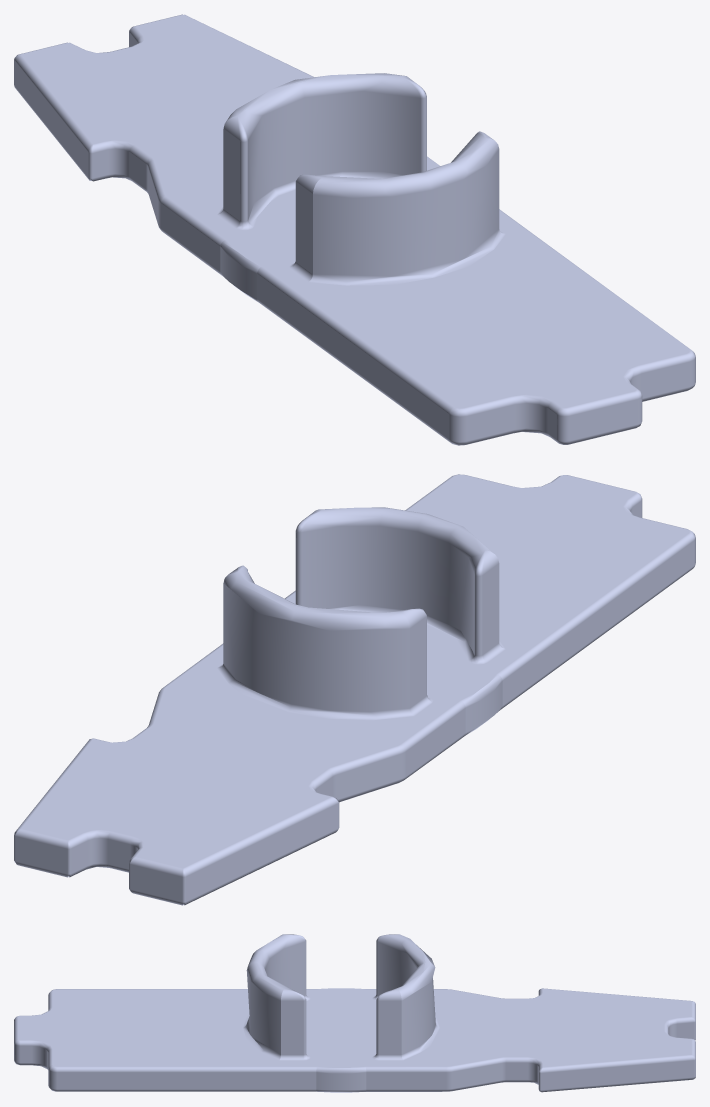
The model's file is Ivan's Standard Mag Locking Plate.obj.
The picture shows the model from 3 angles, top to bottom: view 1: azimuth 30°, elevation 25°; view 2: azimuth 150°, elevation 25°; view 3: azimuth 270°, elevation 25°; orthographic projection. The views are drawn at different scales.
Parts seen in each view (by area): view 1: Solid1; view 2: Solid1; view 3: Solid1.
Part boxes in pixels (x1=…): Solid1: x1=14, y1=14, x2=695, y2=445; Solid1: x1=14, y1=474, x2=695, y2=905; Solid1: x1=14, y1=934, x2=695, y2=1092.
Bounding box in the file's own units: 17.21 × 11.02 × 59.54.
